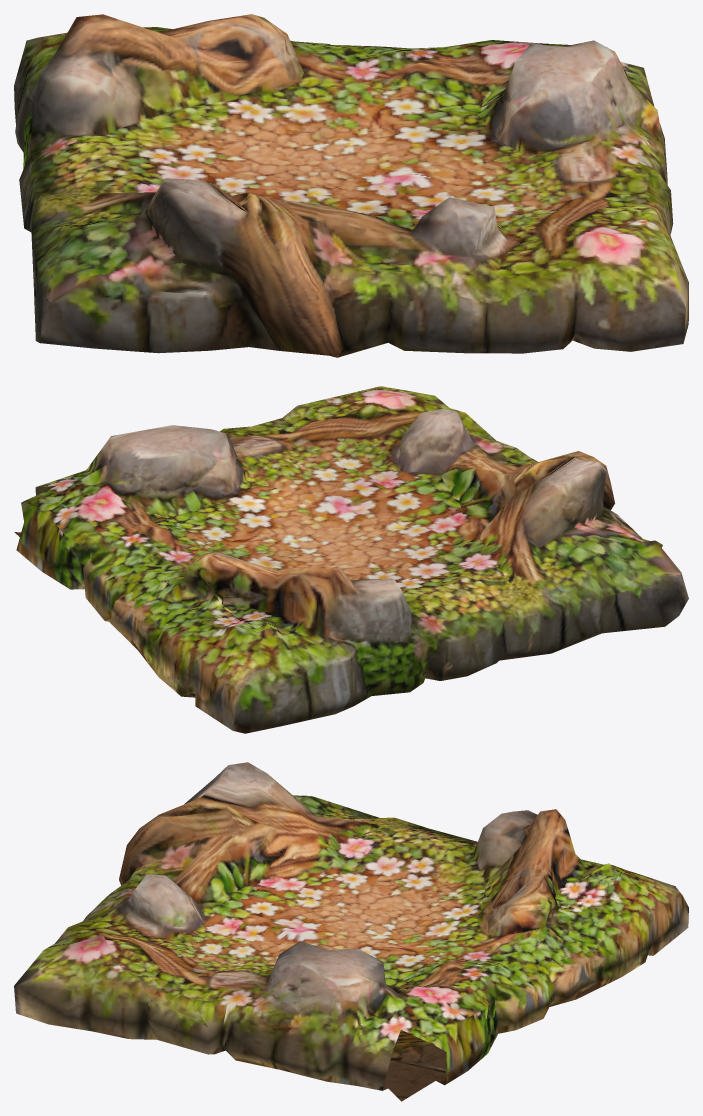
File: FlowerForest_Floor.fbx
3 views of the same model, one above another, from view 1: azimuth 30°, elevation 25°; view 2: azimuth 150°, elevation 25°; view 3: azimuth 270°, elevation 25° (orthographic). The views are drawn at different scales.
Visible parts, largest first — view 1: FlowerForest_Floor_Mesh; view 2: FlowerForest_Floor_Mesh; view 3: FlowerForest_Floor_Mesh.
Boxes of the visible parts, left/top/right/bottom form: FlowerForest_Floor_Mesh: left=14, top=14, right=688, bottom=357; FlowerForest_Floor_Mesh: left=14, top=386, right=688, bottom=733; FlowerForest_Floor_Mesh: left=14, top=762, right=688, bottom=1101.
Size of the model in its own units: 6 by 1.2 by 6.33.
1 material, 1 textured.
